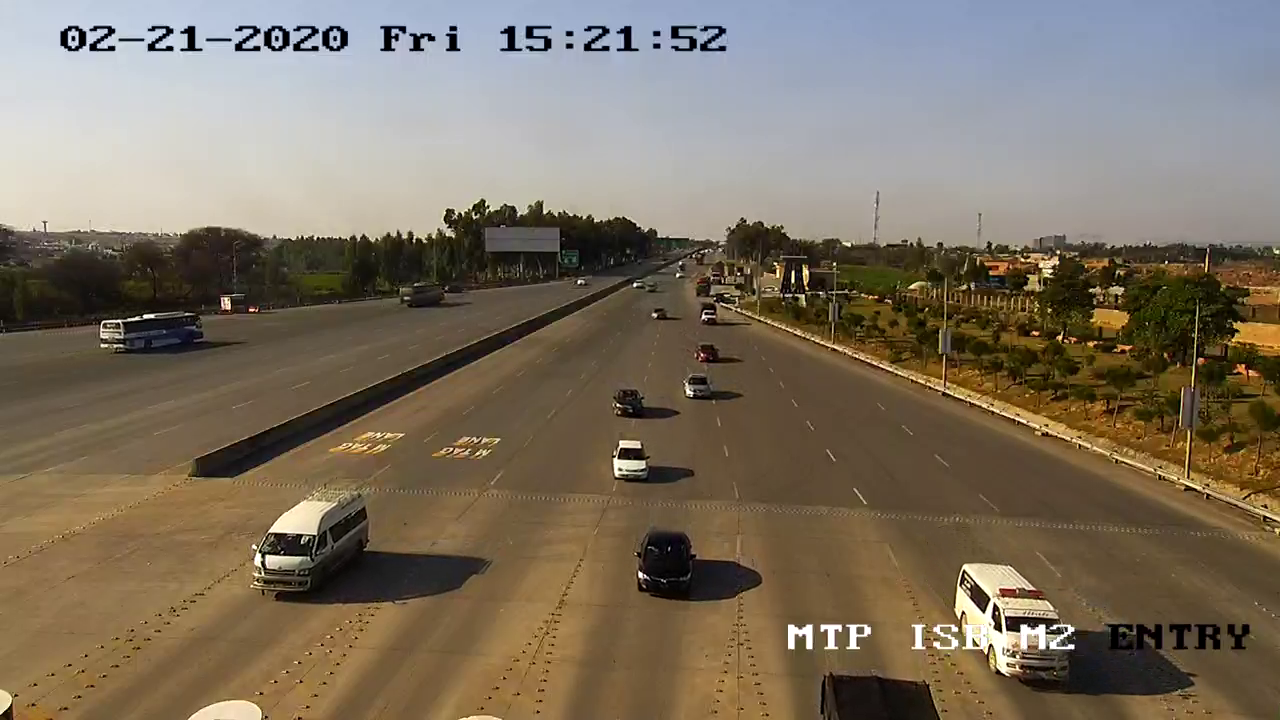f1: (630, 524, 700, 604), (602, 435, 658, 487)
f2: (242, 482, 383, 602)
